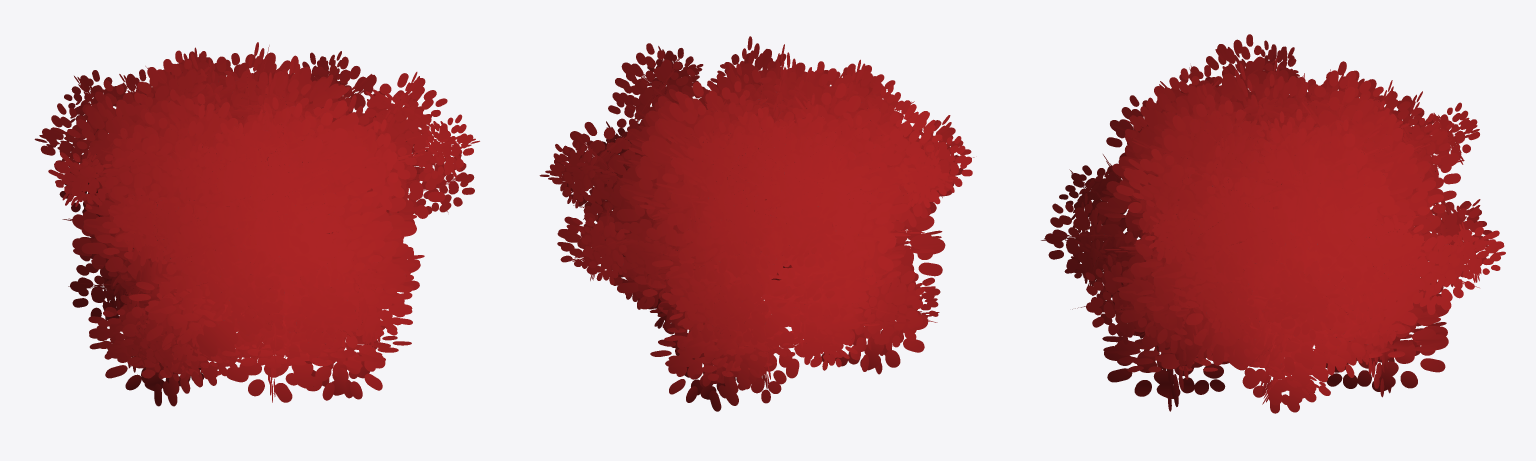
Rendered from Bush_Common.glb.
The picture shows the model from 3 angles, left to right: view 1: azimuth 30°, elevation 25°; view 2: azimuth 150°, elevation 25°; view 3: azimuth 270°, elevation 25°; orthographic projection. The views are drawn at different scales.
Visible parts, largest first — view 1: Bush_Common; view 2: Bush_Common; view 3: Bush_Common.
Boxes of the visible parts, bbox=[...] form: Bush_Common: bbox=[34, 42, 479, 406]; Bush_Common: bbox=[539, 36, 974, 411]; Bush_Common: bbox=[1041, 34, 1505, 413].
Bounding box in the file's own units: 1.91 × 1.58 × 1.97.
Materials: 1 (1 with a texture image).
